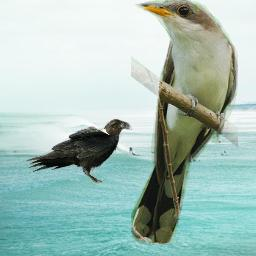Crow: (25, 118, 133, 185)
Cuckoo: (131, 0, 238, 245)
